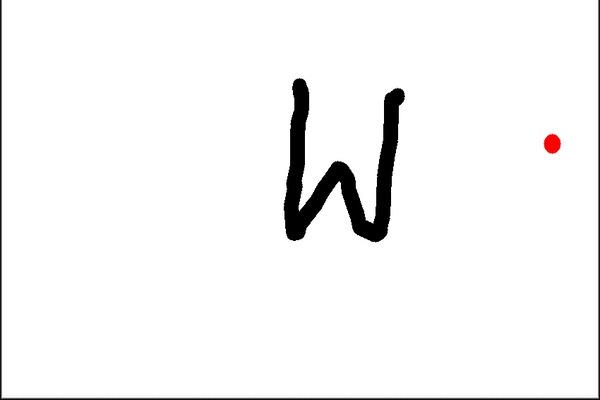w: (268, 64, 408, 256)
